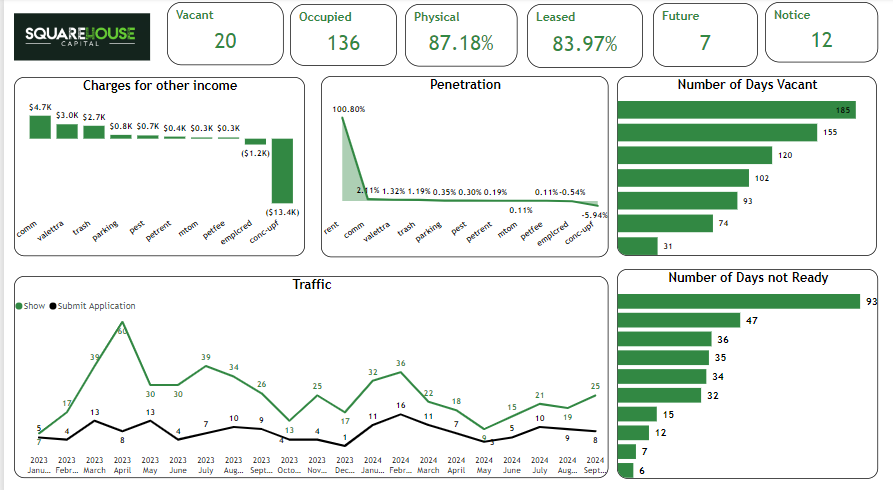

This screenshot's page, from the dashboard's own definition file:
{"tool":"powerbi","page":{"name":"Page 2","canvas":[1280,720],"ordinal":1},"visuals":[{"type":"lineChart","title":"Traffic","fields":{"Y":["Traffic.Show","Traffic.SA"],"Category":["Traffic.Month_Start.Variation.Date Hierarchy.Year","Traffic.Month_Start.Variation.Date Hierarchy.Month"]},"box":[14.6,400.7,856.2,291.1],"z":0},{"type":"image","box":[14.5,0,196.4,112.2],"z":1000},{"type":"lineClusteredColumnComboChart","title":"Charges for other income","fields":{"Category":["Rent_Roll_with_Lease_Charges.Charge_Code"],"Y":["Sum(Rent_Roll_with_Lease_Charges.Amount)"]},"box":[14.5,114.3,418.7,257.7],"z":2000},{"type":"areaChart","title":"Penetration","fields":{"Category":["Table.Charge_code"],"Y":["Sum(Table.penetrartion)"]},"box":[456.7,112,414.1,260.6],"z":3000},{"type":"clusteredBarChart","title":"Number of Days Vacant","fields":{"Category":["Availability.Unit"],"Y":["Sum(Availability.Days_Vacant)"]},"box":[883,112,373.9,259.4],"z":4000},{"type":"card","title":"Vacant","fields":{"Values":["Rent_Roll.vacant M"]},"box":[234.4,6.1,168.1,90.8],"z":5000},{"type":"card","title":"Occupied","fields":{"Values":["Rent_Roll.Occupied M"]},"box":[412.4,9.1,154.3,89.5],"z":6000},{"type":"card","title":"Physical","fields":{"Values":["Rent_Roll.phy occ %"]},"box":[576.8,8.6,162,89.6],"z":7000},{"type":"card","title":"Future","fields":{"Values":["Rent_Roll.Future M"]},"box":[933.9,7.4,150.9,92],"z":8000},{"type":"card","title":"Notice","fields":{"Values":["Rent_Roll.Notice M"]},"box":[1096.1,5.9,163.3,86.8],"z":9000},{"type":"card","title":"Leased","fields":{"Values":["Rent_Roll.Leased"]},"box":[753.5,8.6,166.9,92],"z":10000},{"type":"clusteredBarChart","title":"Number of Days not Ready","fields":{"Category":["Availability.Unit"],"Y":["Sum(Availability.Days_Vacant)"]},"box":[883,389.7,376.3,302],"z":11000}]}

Visuals, with their boxes in screenshot pixels (x1, y1, x2, y2), scaled from the page's 1280x720 canvas onto the 893x490 screenshot:
"Traffic" lineChart: bbox=[10, 273, 608, 471]
image: bbox=[10, 0, 147, 76]
"Charges for other income" lineClusteredColumnComboChart: bbox=[10, 78, 302, 253]
"Penetration" areaChart: bbox=[319, 76, 608, 254]
"Number of Days Vacant" clusteredBarChart: bbox=[616, 76, 877, 253]
"Vacant" card: bbox=[164, 4, 281, 66]
"Occupied" card: bbox=[288, 6, 395, 67]
"Physical" card: bbox=[402, 6, 515, 67]
"Future" card: bbox=[652, 5, 757, 68]
"Notice" card: bbox=[765, 4, 879, 63]
"Leased" card: bbox=[526, 6, 642, 68]
"Number of Days not Ready" clusteredBarChart: bbox=[616, 265, 879, 471]
